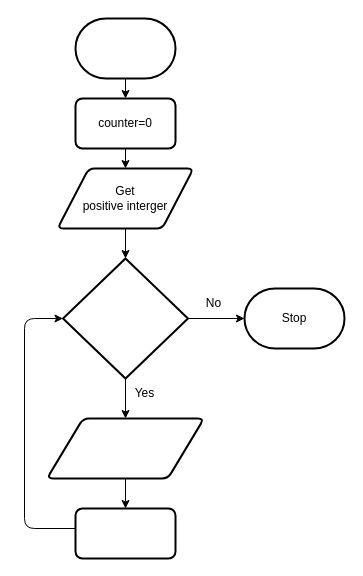
Image size: 363x576. Some labels were removed from this diagram. Each missing label, with the centre of its shape:
counter=counter +1: point 125,533
Start: point 125,48
